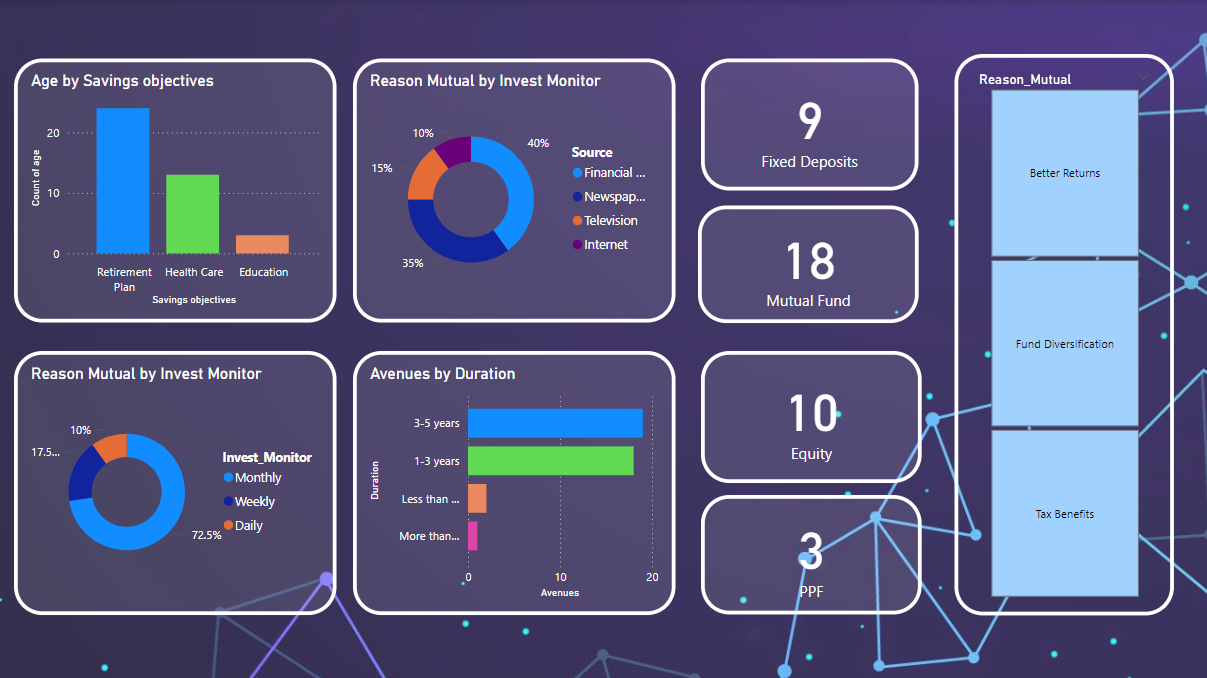

This screenshot's page, from the dashboard's own definition file:
{"tool":"powerbi","page":{"name":"Page 1","canvas":[1280,720],"ordinal":0},"visuals":[{"type":"columnChart","title":"Age by Savings objectives","fields":{"Y":["CountNonNull(Data_set 22.age)"],"Category":["Data_set 22.What are your savings objectives?"]},"box":[15.1,62.4,342,279.7],"z":0},{"type":"clusteredBarChart","title":"Avenues by Duration","fields":{"Category":["Data_set 22.Duration"],"Y":["CountNonNull(Data_set 22.Avenue)"]},"box":[376.1,372.3,342,279.7],"z":1000},{"type":"card","fields":{"Values":["Sum(Data_set 22.fixed Deposits)"]},"box":[744.6,62.4,230.6,139.8],"z":2000},{"type":"card","fields":{"Values":["Sum(Data_set 22.mutual Fund)"]},"box":[740.8,217.3,234.3,124.7],"z":3000},{"type":"card","fields":{"Values":["Sum(Data_set 22.public Provident Fund)"]},"box":[744.6,525.4,234.3,126.6],"z":4000},{"type":"card","fields":{"Values":["Sum(Data_set 22.equity)"]},"box":[744.6,372.3,234.3,139.8],"z":5000},{"type":"donutChart","title":"Reason Mutual by Invest Monitor","fields":{"Category":["Data_set 22.Invest_Monitor"],"Y":["CountNonNull(Data_set 22.Reason_Mutual)"]},"box":[15.1,372.3,342,279.7],"z":6000},{"type":"donutChart","title":"Reason Mutual by Invest Monitor","fields":{"Category":["Data_set 22.Source"],"Y":["CountNonNull(Data_set 22.Avenue)"]},"box":[376.1,62.4,342,279.7],"z":7000},{"type":"slicer","fields":{"Values":["Data_set 22.Reason_Mutual"]},"box":[1012.9,56.7,232.4,595.3],"z":8000}]}

Visuals, with their boxes in screenshot pixels (x1, y1, x2, y2), scaled from the page's 1280x720 canvas onto the 1207x678 screenshot:
"Age by Savings objectives" columnChart: left=14, top=59, right=337, bottom=322
"Avenues by Duration" clusteredBarChart: left=355, top=351, right=677, bottom=614
card - Sum(Data_set 22.fixed Deposits): left=702, top=59, right=920, bottom=190
card - Sum(Data_set 22.mutual Fund): left=699, top=205, right=919, bottom=322
card - Sum(Data_set 22.public Provident Fund): left=702, top=495, right=923, bottom=614
card - Sum(Data_set 22.equity): left=702, top=351, right=923, bottom=482
"Reason Mutual by Invest Monitor" donutChart: left=14, top=351, right=337, bottom=614
"Reason Mutual by Invest Monitor" donutChart: left=355, top=59, right=677, bottom=322
slicer - Data_set 22.Reason_Mutual: left=955, top=53, right=1174, bottom=614
